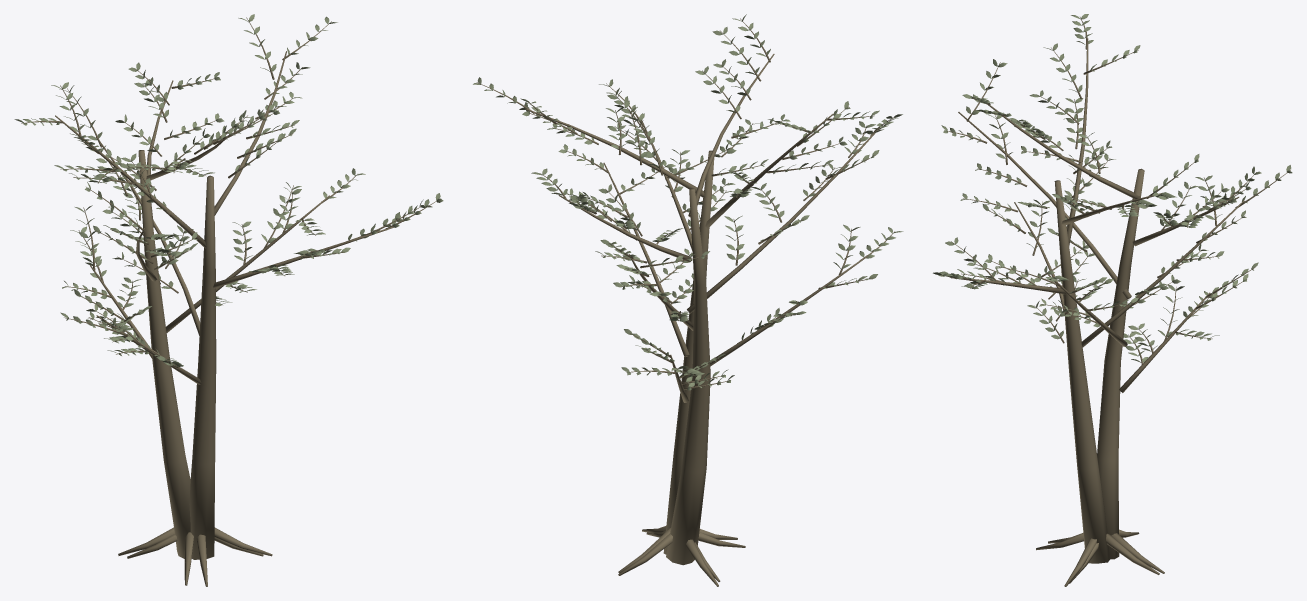
File: Oleastre_1_LOD0.fbx
The picture shows the model from 3 angles, left to right: view 1: azimuth 30°, elevation 25°; view 2: azimuth 150°, elevation 25°; view 3: azimuth 270°, elevation 25°; orthographic projection. The views are drawn at different scales.
Visible parts, largest first — view 1: Oleastre_1_LOD0; view 2: Oleastre_1_LOD0; view 3: Oleastre_1_LOD0.
Boxes of the visible parts, x1,y1,x2,y2 form: Oleastre_1_LOD0: (14,14,443,586); Oleastre_1_LOD0: (473,14,903,586); Oleastre_1_LOD0: (933,14,1292,586).
Bounding box in the file's own units: 340 × 447 × 311.
